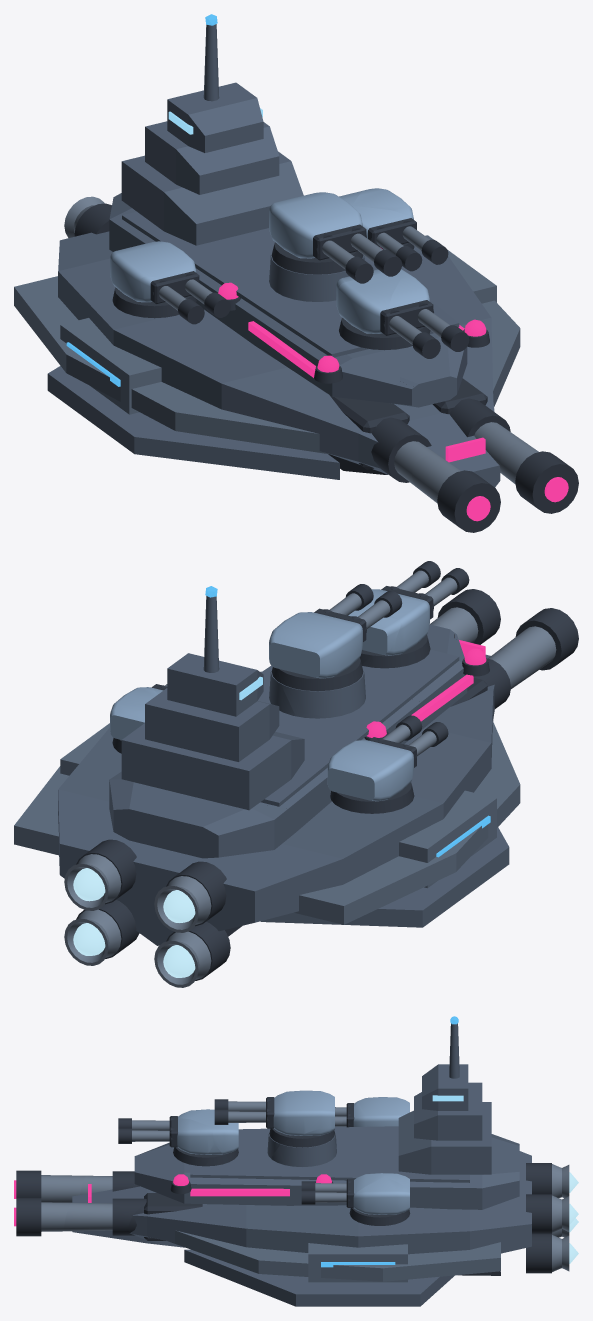
Rendered from iron_dreadnought_wreck.glb.
The picture shows the model from 3 angles, top to bottom: view 1: azimuth 30°, elevation 25°; view 2: azimuth 150°, elevation 25°; view 3: azimuth 270°, elevation 25°; orthographic projection. The views are drawn at different scales.
Visible parts, largest first — view 1: iron_dreadnought_wreck_02, iron_dreadnought_wreck_04, iron_dreadnought_wreck_11, iron_dreadnought_wreck_06, iron_dreadnought_wreck_15, iron_dreadnought_wreck_17, iron_dreadnought_wreck_14, iron_dreadnought_wreck_03, iron_dreadnought_wreck_08, iron_dreadnought_wreck_16, iron_dreadnought_wreck_05, iron_dreadnought_wreck_10 (+4 smaller); view 2: iron_dreadnought_wreck_12, iron_dreadnought_wreck_08, iron_dreadnought_wreck_06, iron_dreadnought_wreck_04, iron_dreadnought_wreck_09, iron_dreadnought_wreck_14, iron_dreadnought_wreck_00, iron_dreadnought_wreck_02, iron_dreadnought_wreck_15, iron_dreadnought_wreck_11, iron_dreadnought_wreck_03, iron_dreadnought_wreck_01 (+3 smaller); view 3: iron_dreadnought_wreck_09, iron_dreadnought_wreck_01, iron_dreadnought_wreck_05, iron_dreadnought_wreck_10, iron_dreadnought_wreck_13, iron_dreadnought_wreck_14, iron_dreadnought_wreck_16, iron_dreadnought_wreck_17, iron_dreadnought_wreck_04, iron_dreadnought_wreck_00, iron_dreadnought_wreck_06, iron_dreadnought_wreck_03 (+2 smaller).
Part boxes in pixels (x1,y1,x2,y2): iron_dreadnought_wreck_02: [235, 270, 412, 475]; iron_dreadnought_wreck_04: [71, 193, 274, 346]; iron_dreadnought_wreck_11: [62, 339, 277, 471]; iron_dreadnought_wreck_06: [121, 14, 279, 212]; iron_dreadnought_wreck_15: [107, 276, 285, 410]; iron_dreadnought_wreck_17: [309, 381, 529, 487]; iron_dreadnought_wreck_14: [261, 192, 410, 319]; iron_dreadnought_wreck_03: [412, 443, 578, 532]; iron_dreadnought_wreck_08: [14, 201, 134, 401]; iron_dreadnought_wreck_16: [385, 275, 487, 391]; iron_dreadnought_wreck_05: [352, 206, 491, 329]; iron_dreadnought_wreck_10: [382, 307, 509, 474]; iron_dreadnought_wreck_12: [148, 804, 281, 987]; iron_dreadnought_wreck_08: [252, 800, 450, 927]; iron_dreadnought_wreck_06: [147, 586, 292, 807]; iron_dreadnought_wreck_04: [260, 714, 447, 850]; iron_dreadnought_wreck_09: [14, 699, 215, 851]; iron_dreadnought_wreck_14: [269, 584, 410, 719]; iron_dreadnought_wreck_00: [46, 839, 164, 965]; iron_dreadnought_wreck_02: [362, 597, 508, 759]; iron_dreadnought_wreck_15: [344, 690, 491, 823]; iron_dreadnought_wreck_11: [416, 757, 520, 916]; iron_dreadnought_wreck_03: [430, 589, 578, 681]; iron_dreadnought_wreck_01: [24, 687, 157, 812]; iron_dreadnought_wreck_09: [383, 1114, 526, 1272]; iron_dreadnought_wreck_01: [323, 1176, 484, 1306]; iron_dreadnought_wreck_05: [220, 1128, 384, 1234]; iron_dreadnought_wreck_10: [128, 1164, 243, 1283]; iron_dreadnought_wreck_13: [226, 1232, 356, 1306]; iron_dreadnought_wreck_14: [210, 1090, 336, 1163]; iron_dreadnought_wreck_16: [118, 1116, 214, 1191]; iron_dreadnought_wreck_17: [64, 1152, 165, 1245]; iron_dreadnought_wreck_04: [335, 1097, 413, 1164]; iron_dreadnought_wreck_00: [501, 1192, 578, 1273]; iron_dreadnought_wreck_06: [408, 1016, 491, 1138]; iron_dreadnought_wreck_03: [14, 1170, 85, 1236].
Size of the model in its own units: 5.2 by 4.58 by 9.09.
